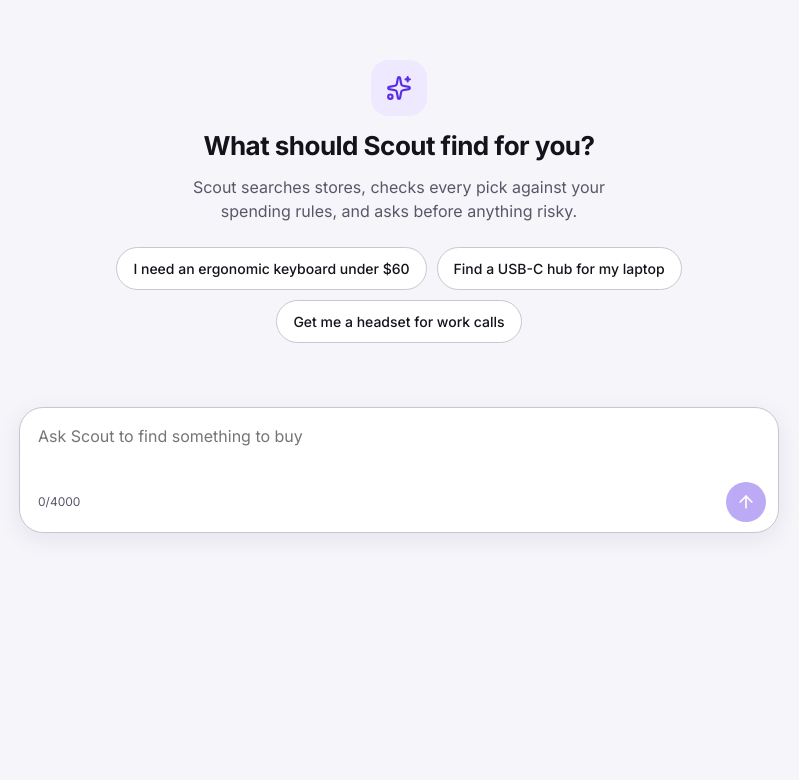
Chat › renders live proposal status and hides Review once decided
Step 1. Type "kb" into the text box named "Message Scout" → coordinates (402, 448), box [38,418,766,478]
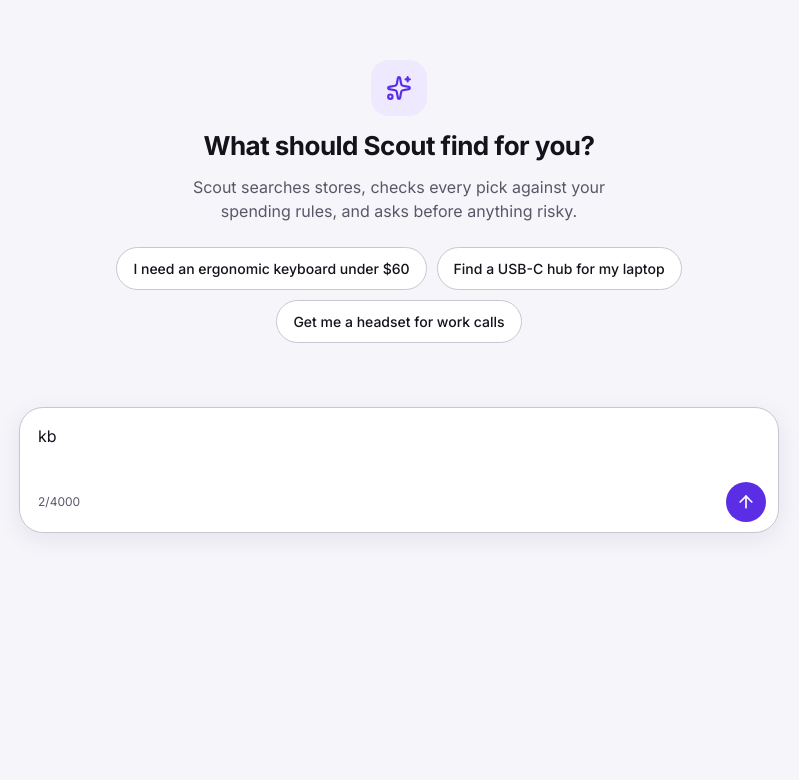
Step 2. Click the button named "Send message" → coordinates (746, 502), box [726,482,766,522]
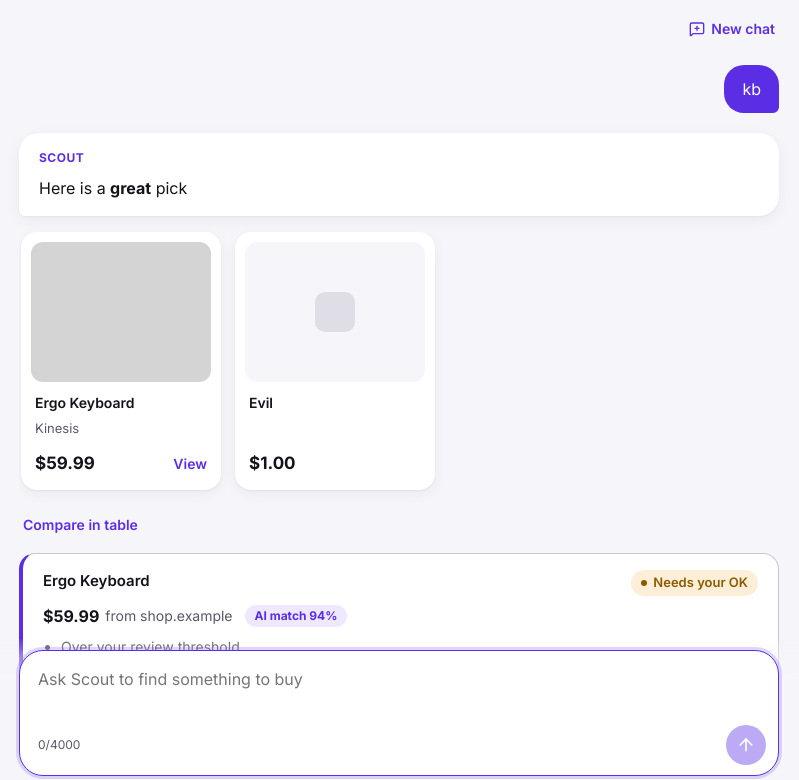
Check: the button "Review in Approvals" is shown, box [43,665,239,705]
